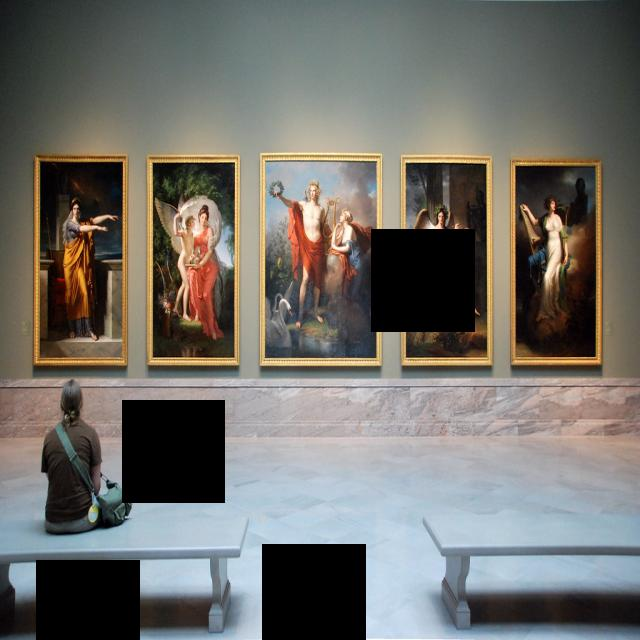Tablo: (264, 158, 379, 361), (37, 160, 125, 361), (151, 160, 237, 360), (404, 161, 489, 362), (514, 163, 598, 360)
